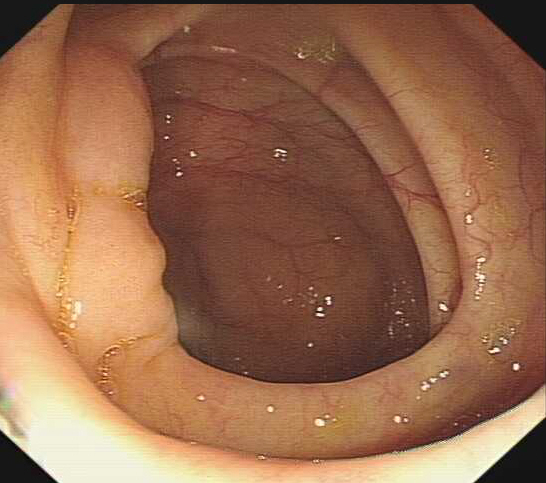others: (62, 38, 182, 377)
